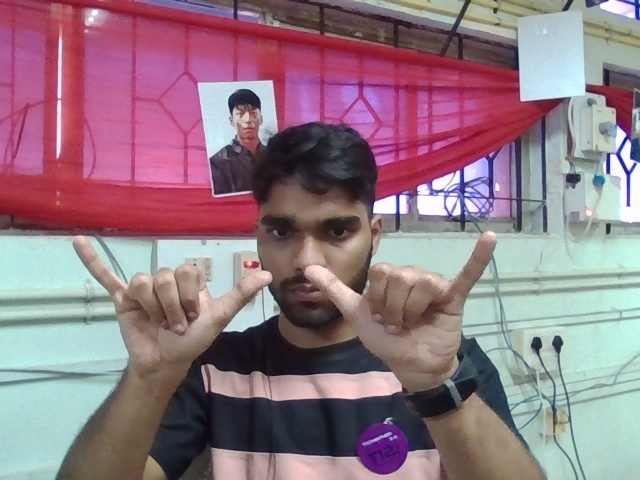play: (60, 218, 517, 391)
